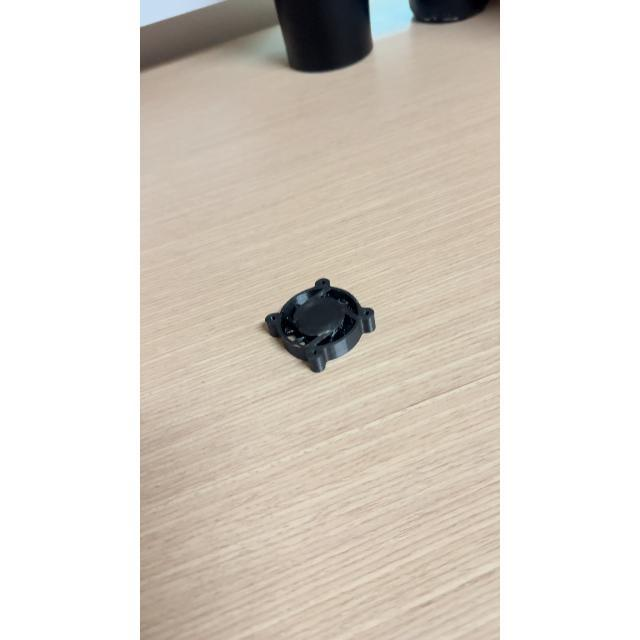Pieza4: (254, 270, 378, 392)
